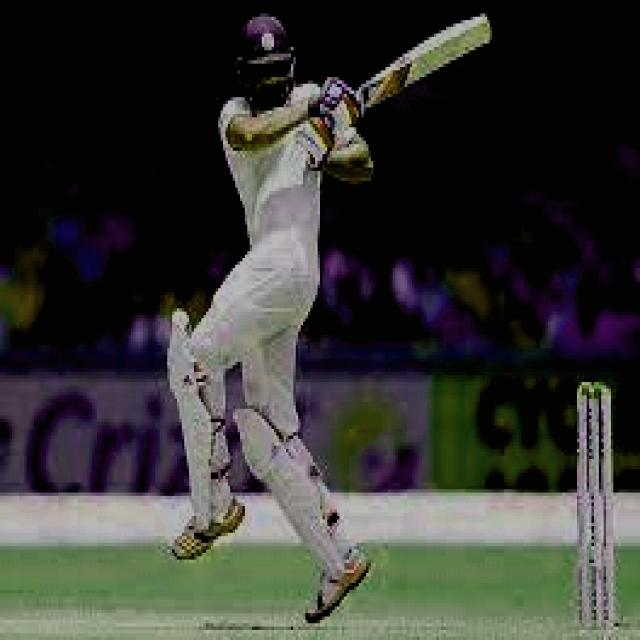toe: (478, 12, 496, 49)
